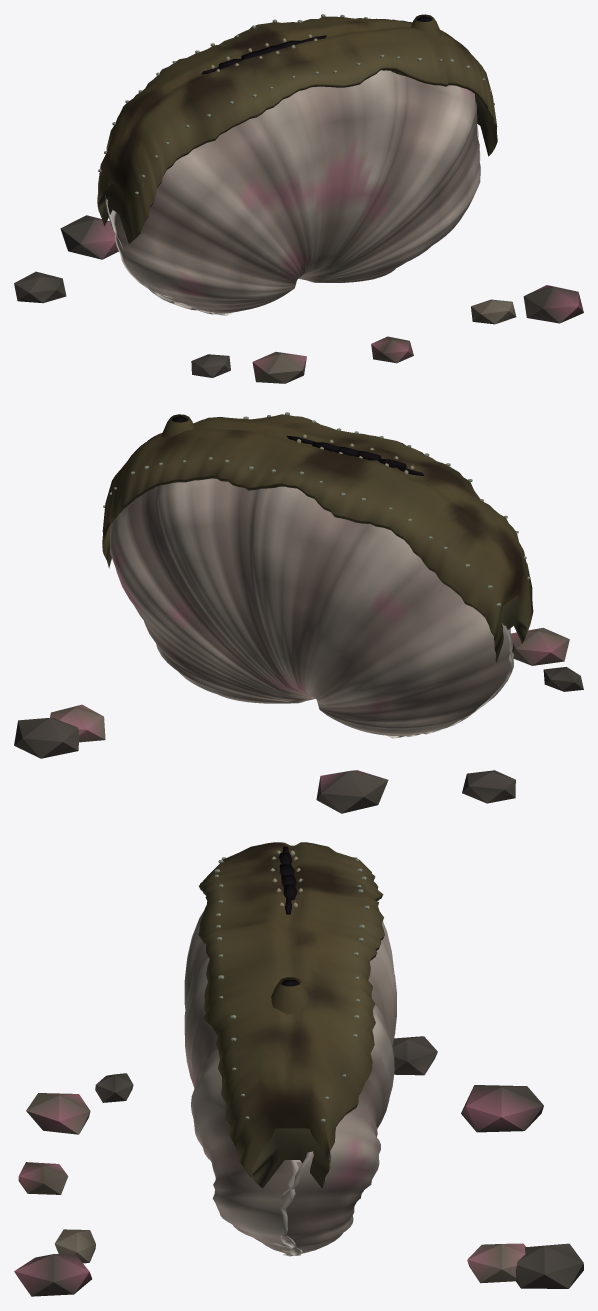
Rendered from DevilClam.fbx.
The picture shows the model from 3 angles, top to bottom: view 1: azimuth 30°, elevation 25°; view 2: azimuth 150°, elevation 25°; view 3: azimuth 270°, elevation 25°; orthographic projection. The views are drawn at different scales.
Visible parts, largest first — view 1: DevilClam; view 2: DevilClam; view 3: DevilClam.
Part boxes in pixels (left/top/right/bottom): DevilClam: left=14, top=14, right=583, bottom=383; DevilClam: left=14, top=412, right=583, bottom=813; DevilClam: left=14, top=842, right=583, bottom=1296.
Size of the model in its own units: 1.72 by 1.02 by 1.66.
